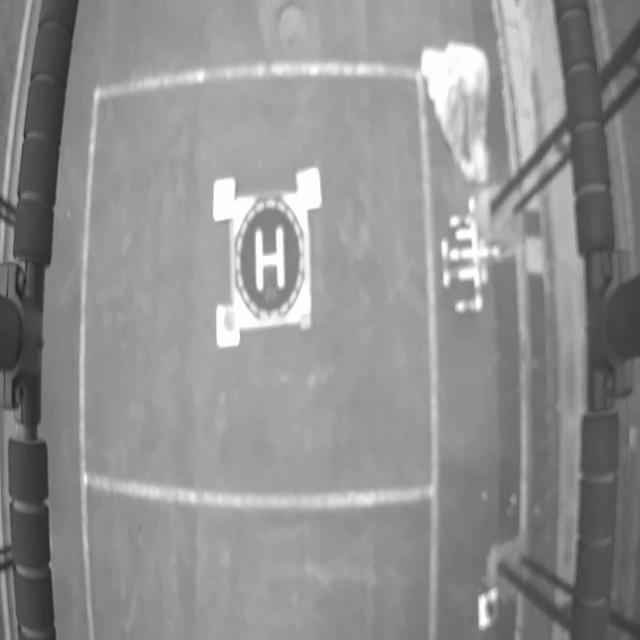Helipad: (255, 225, 284, 292)
